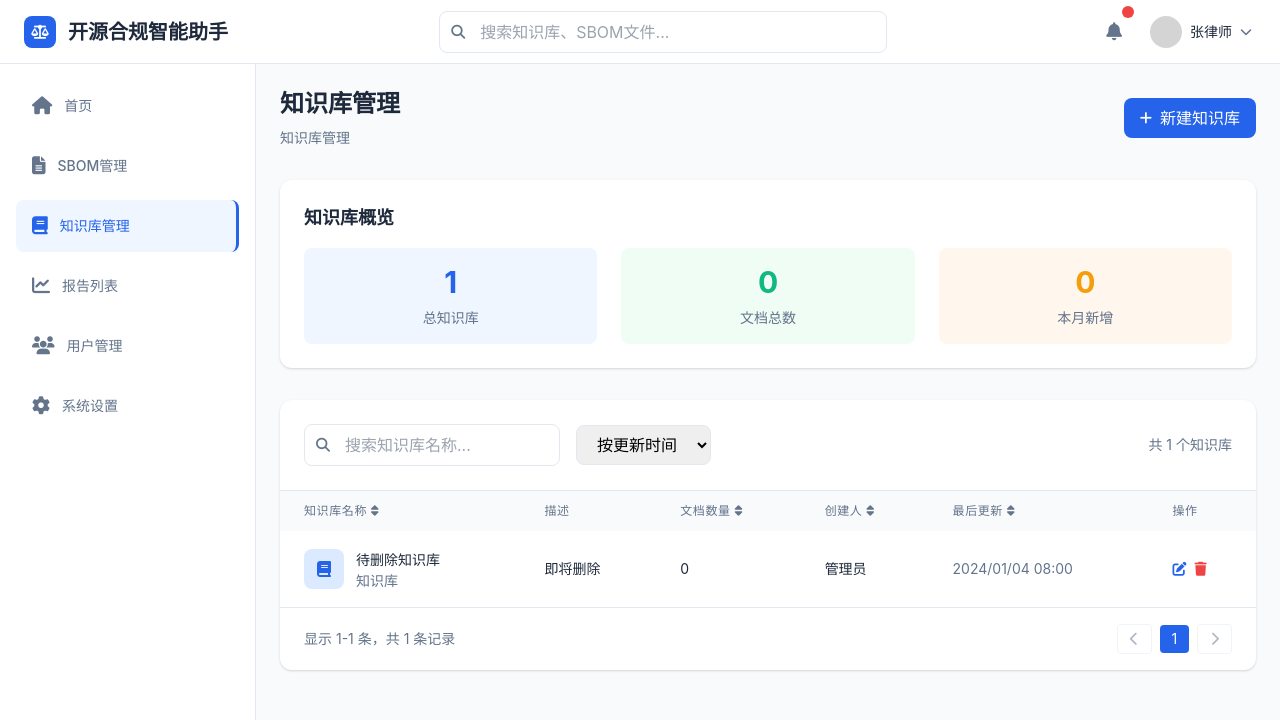
Test: KnowledgeBaseListPage › deletes a knowledge base through the API and removes it from the list
Expected: the link "待删除知识库" is shown, [356,551,440,568]
Click the button named "删除知识库": (1201, 569) [1194,559,1207,579]
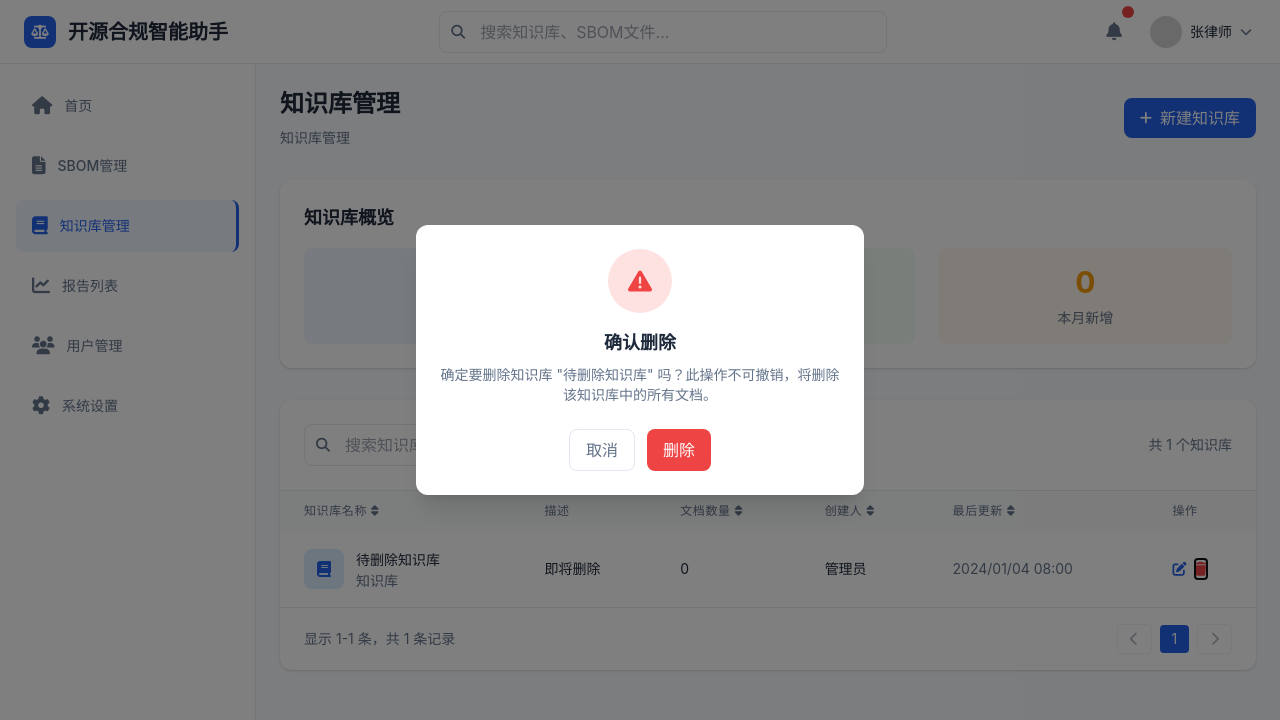
Click the button "删除": (679, 450) [647,429,711,471]
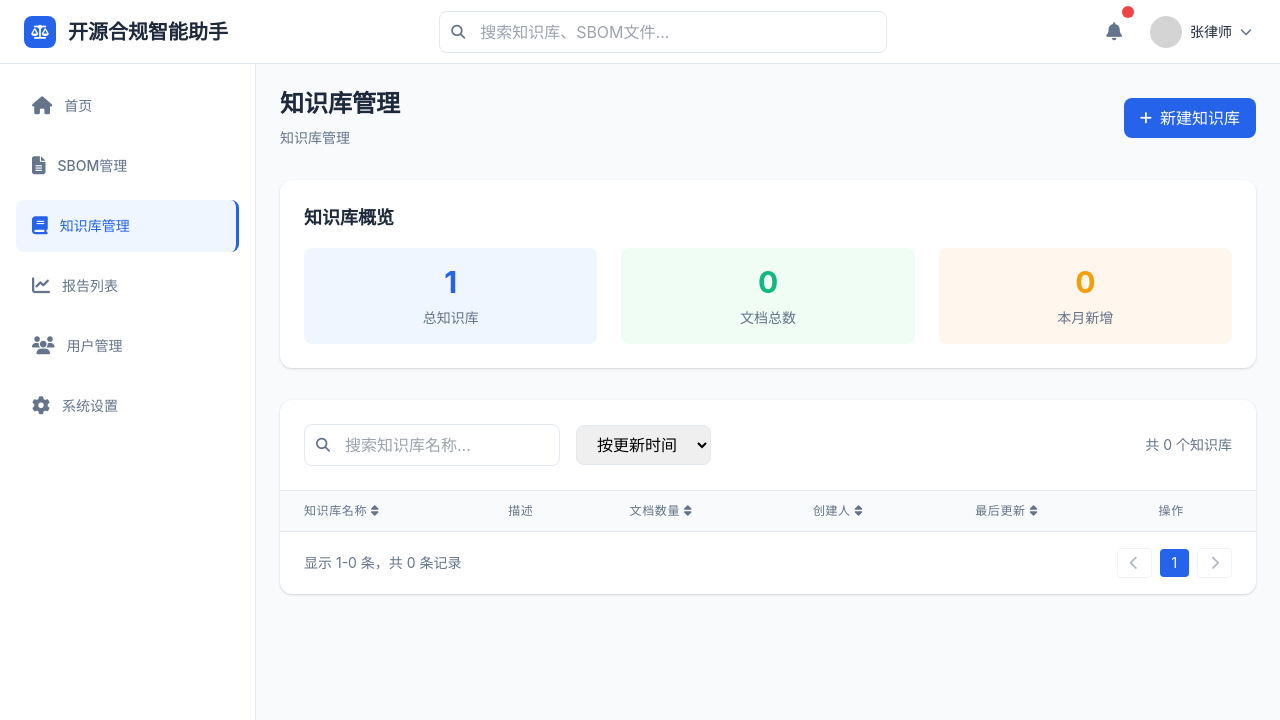
Expected: the link "待删除知识库" is gone
